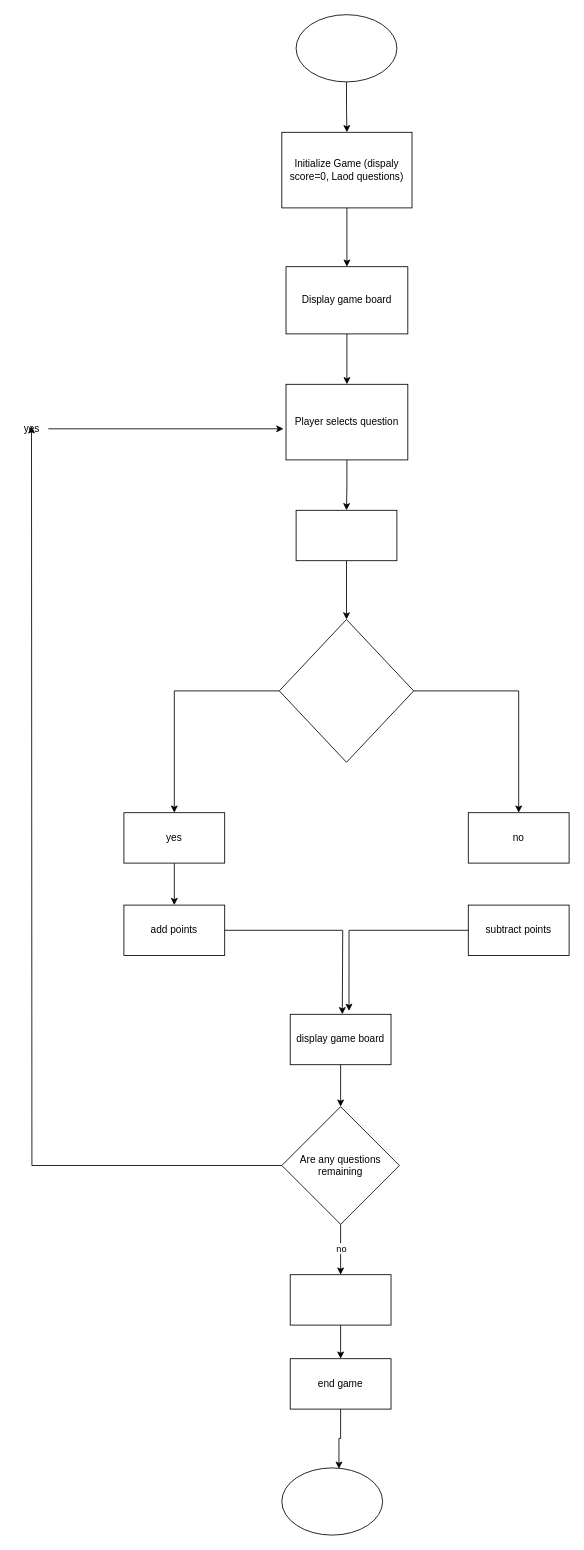
The diagram is 584 pixels wide and 1550 high, and some of its shapes have lost their labels. Here are the shapes that lost their labels. From the top down, the centre of each, then its label:
At point 346,48: "Start".
At point 346,535: "Player input answer".
At point 346,690: "Is the answer Correct".
At point 340,1299: "display final score".
At point 332,1501: "end".
